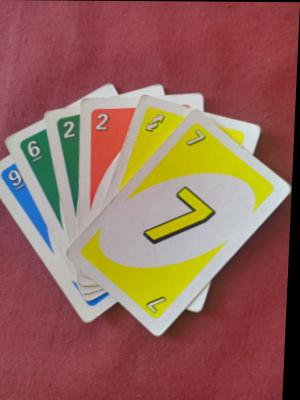green: (53, 117, 86, 143)
num_6: (28, 133, 52, 163)
num_7: (132, 189, 227, 256)
num_9: (4, 161, 35, 196)
red: (92, 109, 117, 143)
reverse: (139, 104, 171, 152)
yellow: (178, 125, 229, 175)
